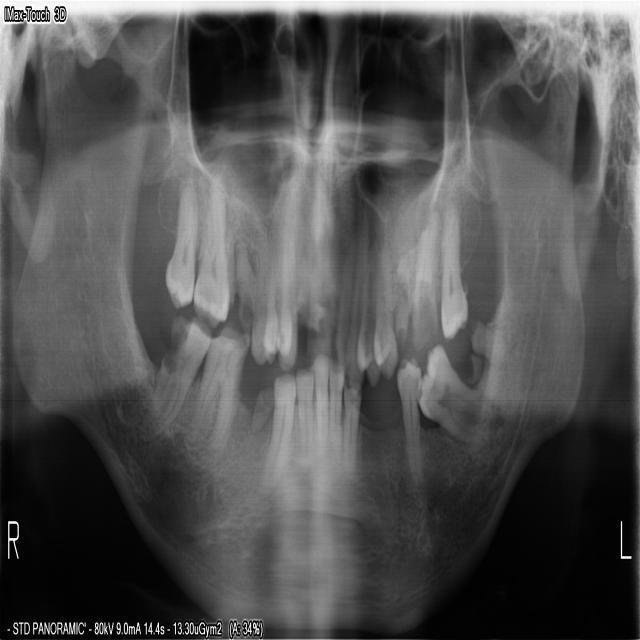LID: (327, 353, 344, 468), (342, 375, 361, 470)
LMD: (418, 339, 486, 447)
LMU: (437, 198, 468, 343)
LPMD: (394, 351, 424, 489)
LPMU: (370, 207, 398, 380)
RCU: (274, 210, 297, 375)
RID: (311, 350, 328, 470), (295, 363, 313, 475)
RMD: (132, 312, 210, 444), (182, 324, 247, 468)
RMU: (192, 175, 229, 330), (162, 178, 197, 312)
RPMD: (251, 373, 294, 500)
RPMU: (248, 209, 275, 368)
